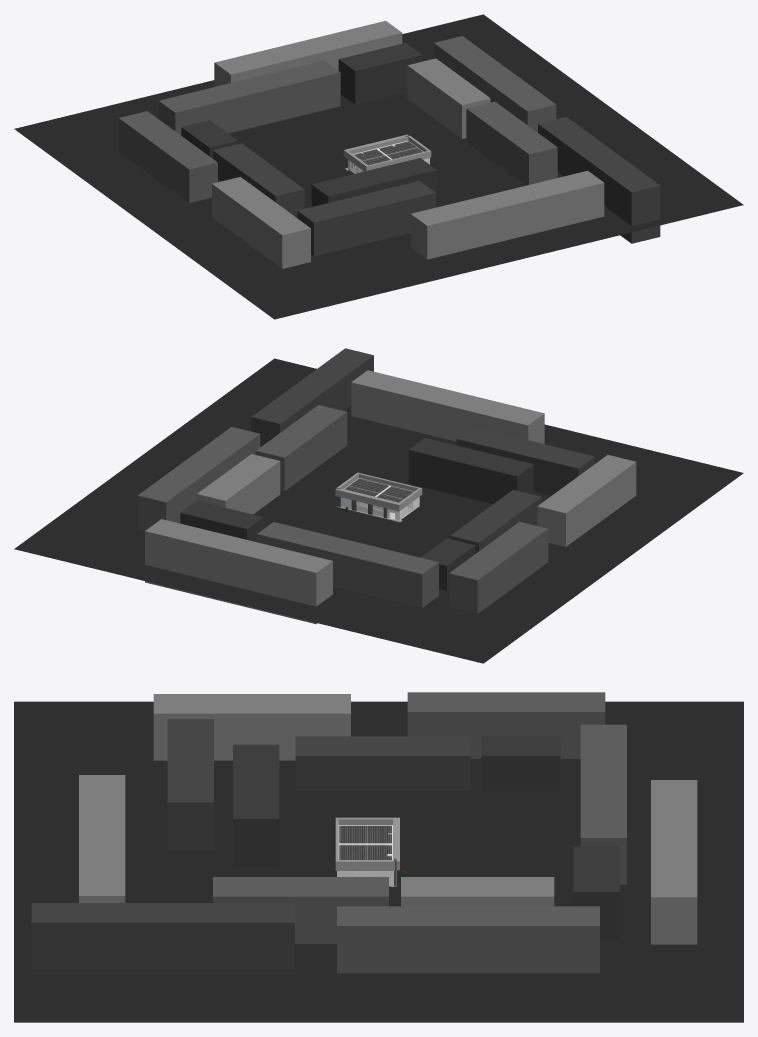
The model's file is ConvenienceStore.glb.
3 renders of one model, top to bottom at view 1: azimuth 30°, elevation 25°; view 2: azimuth 150°, elevation 25°; view 3: azimuth 270°, elevation 25°, orthographic. The views are drawn at different scales.
Parts seen in each view (by area): view 1: Ground, Building.003, Building.007, Building.013, Building.011, Building.010, Building.009, Building.008, Building.004, Building.012, Building.005, Building.006 (+4 smaller); view 2: Ground, Building.008, Building.003, Building.007, Building.002, Building.009, Building.010, Building.012, Building.013, Building.004, Building.011, Building.005 (+4 smaller); view 3: Ground, Building.012, Building.013, Building.001, Building.009, Building.010, Building.008, Building.004, Building.011, Building.007, Building.003, Building.002 (+4 smaller).
Boxes of the visible parts, x1,y1,x2,y2 form: Ground: [14, 14, 743, 319]; Building.003: [410, 170, 604, 259]; Building.007: [158, 60, 340, 135]; Building.013: [538, 117, 660, 243]; Building.011: [297, 181, 435, 256]; Building.010: [212, 177, 310, 268]; Building.009: [118, 111, 217, 203]; Building.008: [214, 21, 402, 86]; Building.004: [466, 101, 557, 185]; Building.012: [434, 36, 556, 132]; Building.005: [407, 58, 490, 138]; Building.006: [338, 43, 422, 104]; Ground: [14, 358, 743, 663]; Building.008: [145, 519, 332, 624]; Building.003: [351, 370, 544, 443]; Building.007: [257, 522, 438, 607]; Building.002: [408, 438, 533, 503]; Building.009: [449, 521, 548, 613]; Building.010: [537, 455, 636, 546]; Building.012: [137, 427, 260, 530]; Building.013: [251, 348, 373, 446]; Building.004: [255, 405, 347, 491]; Building.011: [456, 427, 594, 495]; Building.005: [197, 454, 280, 514]; Ground: [14, 701, 743, 1022]; Building.012: [337, 906, 599, 973]; Building.013: [31, 903, 294, 969]; Building.001: [295, 736, 471, 790]; Building.009: [407, 692, 605, 758]; Building.010: [153, 694, 350, 760]; Building.008: [651, 780, 697, 944]; Building.004: [213, 877, 388, 943]; Building.011: [167, 719, 213, 849]; Building.007: [580, 724, 626, 884]; Building.003: [79, 775, 125, 902]; Building.002: [233, 744, 279, 866].
Size of the model in its own units: 214 by 26.2 by 206.
Materials: 30 (12 with a texture image).
